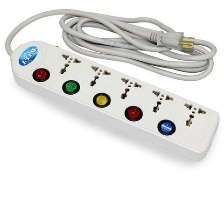three_eye_plug: (6, 39, 222, 167)
